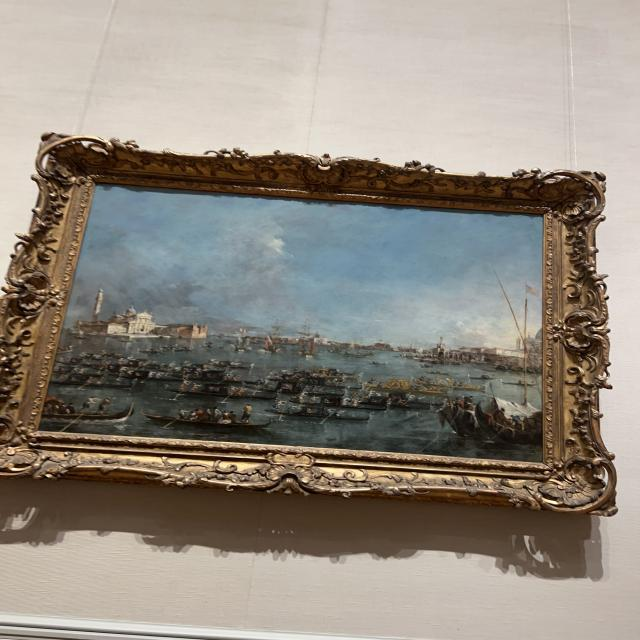ships: (40, 186, 544, 459)
